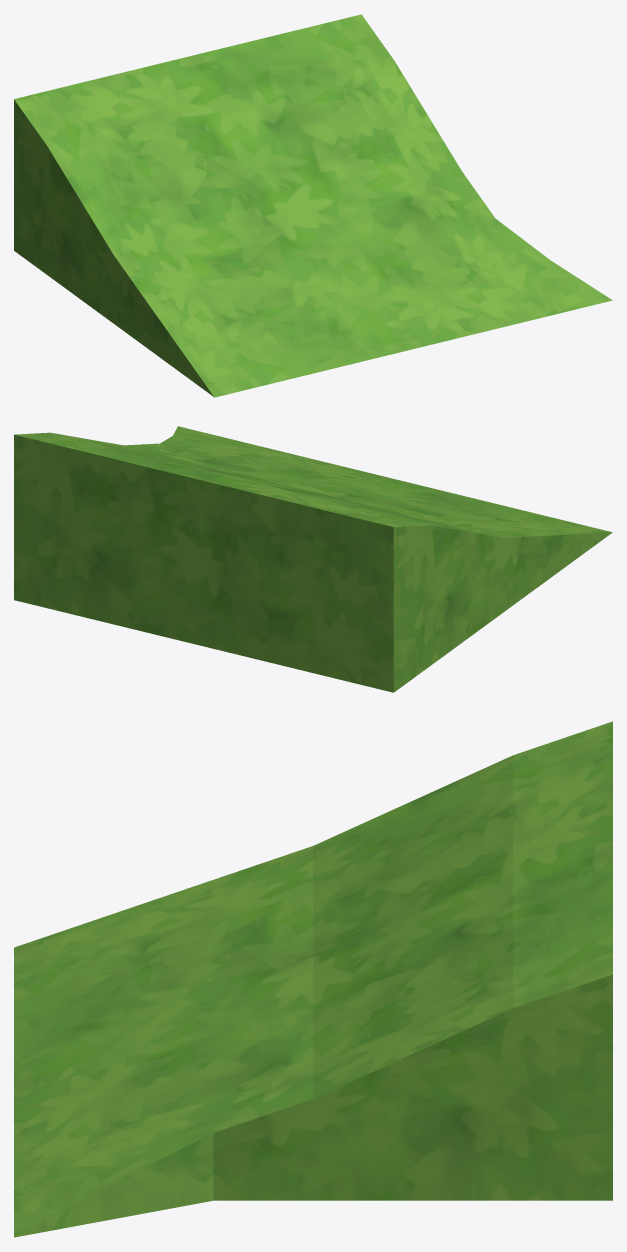
The model's file is Ramp_RightSide_1x1x1.fbx.
The picture shows the model from 3 angles, top to bottom: view 1: azimuth 30°, elevation 25°; view 2: azimuth 150°, elevation 25°; view 3: azimuth 270°, elevation 25°; orthographic projection. The views are drawn at different scales.
Visible parts, largest first — view 1: Ramp_RightSide_1x1x1; view 2: Ramp_RightSide_1x1x1; view 3: Ramp_RightSide_1x1x1.
Boxes of the visible parts, left/top/right/bottom form: Ramp_RightSide_1x1x1: left=14, top=14, right=612, bottom=397; Ramp_RightSide_1x1x1: left=14, top=426, right=612, bottom=692; Ramp_RightSide_1x1x1: left=14, top=721, right=612, bottom=1237.
Size of the model in its own units: 3.44 by 3 by 1.25.
